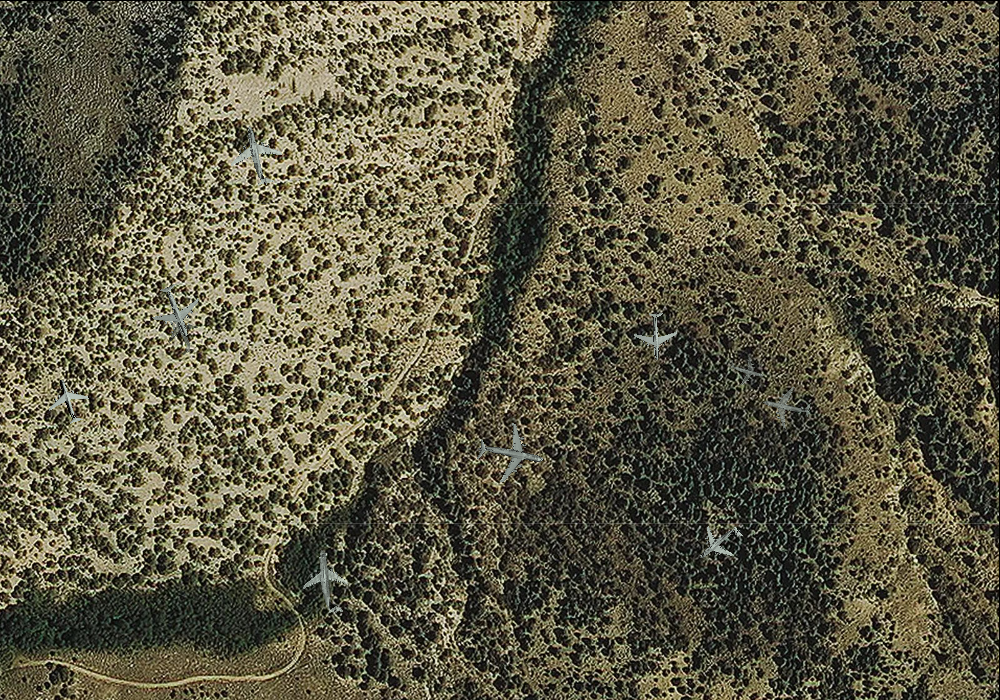plane: (471, 416, 550, 492), (222, 119, 292, 191), (142, 276, 210, 345), (686, 511, 752, 577), (297, 547, 359, 617), (758, 378, 815, 434), (40, 372, 96, 429), (152, 305, 207, 361), (632, 310, 680, 361), (725, 349, 768, 391)
